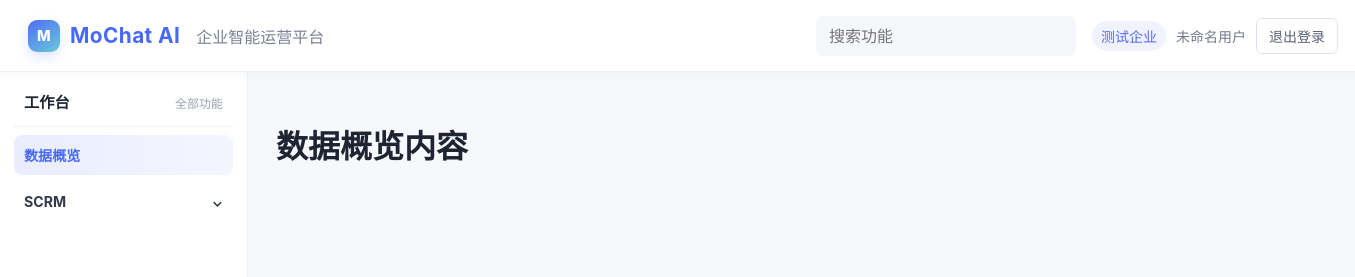
Test: Dashboard shell › filters authorized navigation and supports keyboard navigation from search
Expected: the button "SCRM ⌄" is shown, [14,183,233,220]
Type "标签" into the search field labelled "搜索功能" at {"x": 946, "y": 36}, box [816,16,1076,56]
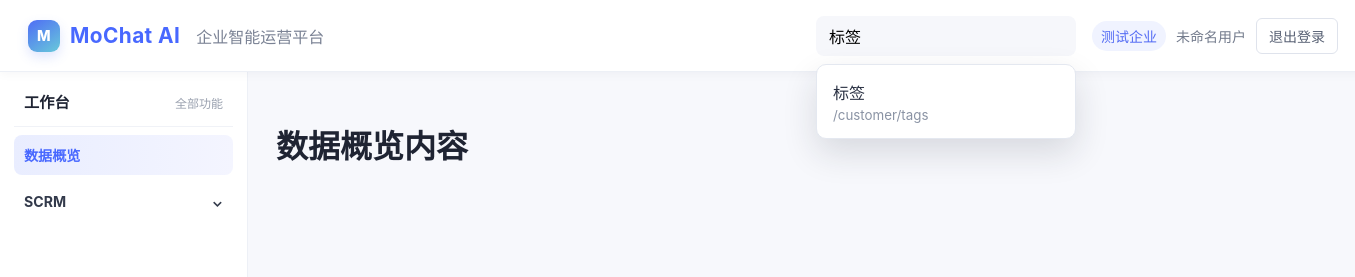
Press Enter in the search field named "搜索功能", box [816,16,1076,56]
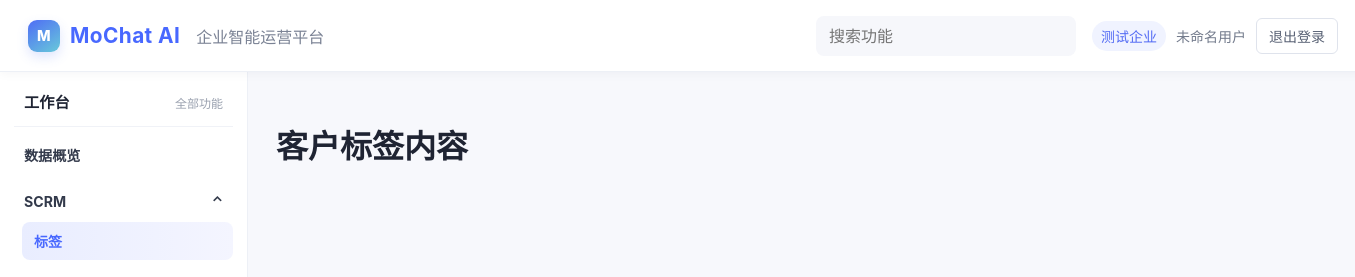
Result: the heading "客户标签内容" is shown at [276,127,468,166]
